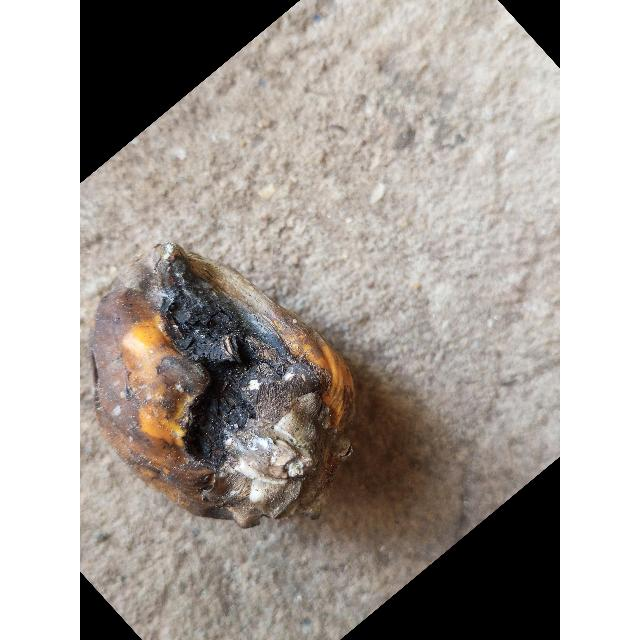damaged: (89, 248, 383, 533)
